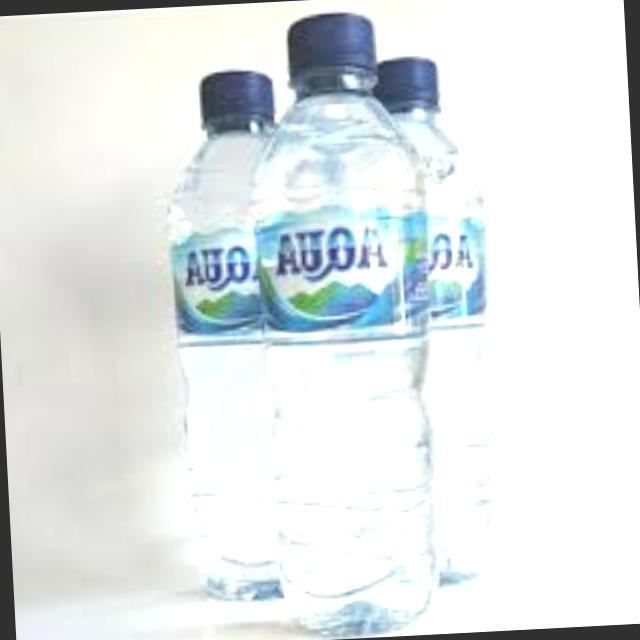trash: (221, 0, 454, 640), (152, 61, 310, 616), (361, 39, 515, 592)
